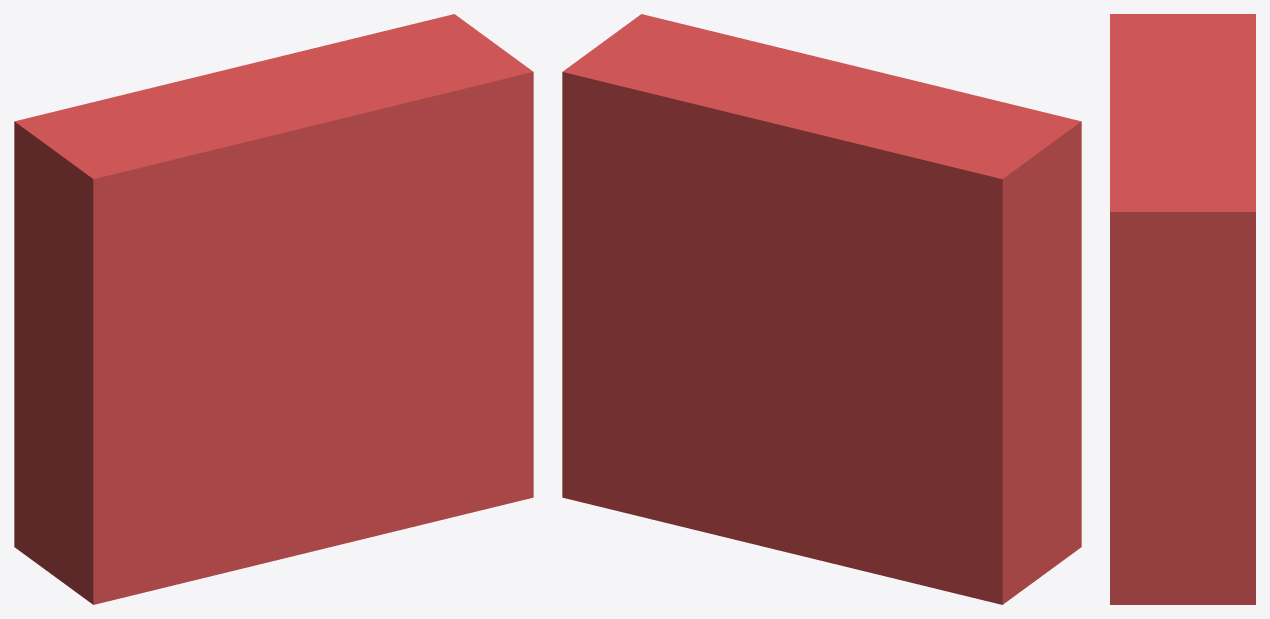
The model's file is delivery_stock_shelf.glb.
The picture shows the model from 3 angles, left to right: view 1: azimuth 30°, elevation 25°; view 2: azimuth 150°, elevation 25°; view 3: azimuth 270°, elevation 25°; orthographic projection. The views are drawn at different scales.
Parts seen in each view (by area): view 1: COL_StockShelf; view 2: COL_StockShelf; view 3: COL_StockShelf.
Part boxes in pixels (left/top/right/bottom): COL_StockShelf: left=14, top=14, right=533, bottom=604; COL_StockShelf: left=562, top=14, right=1081, bottom=604; COL_StockShelf: left=1110, top=14, right=1255, bottom=604.
Size of the model in its own units: 2.25 by 2.08 by 0.7.
